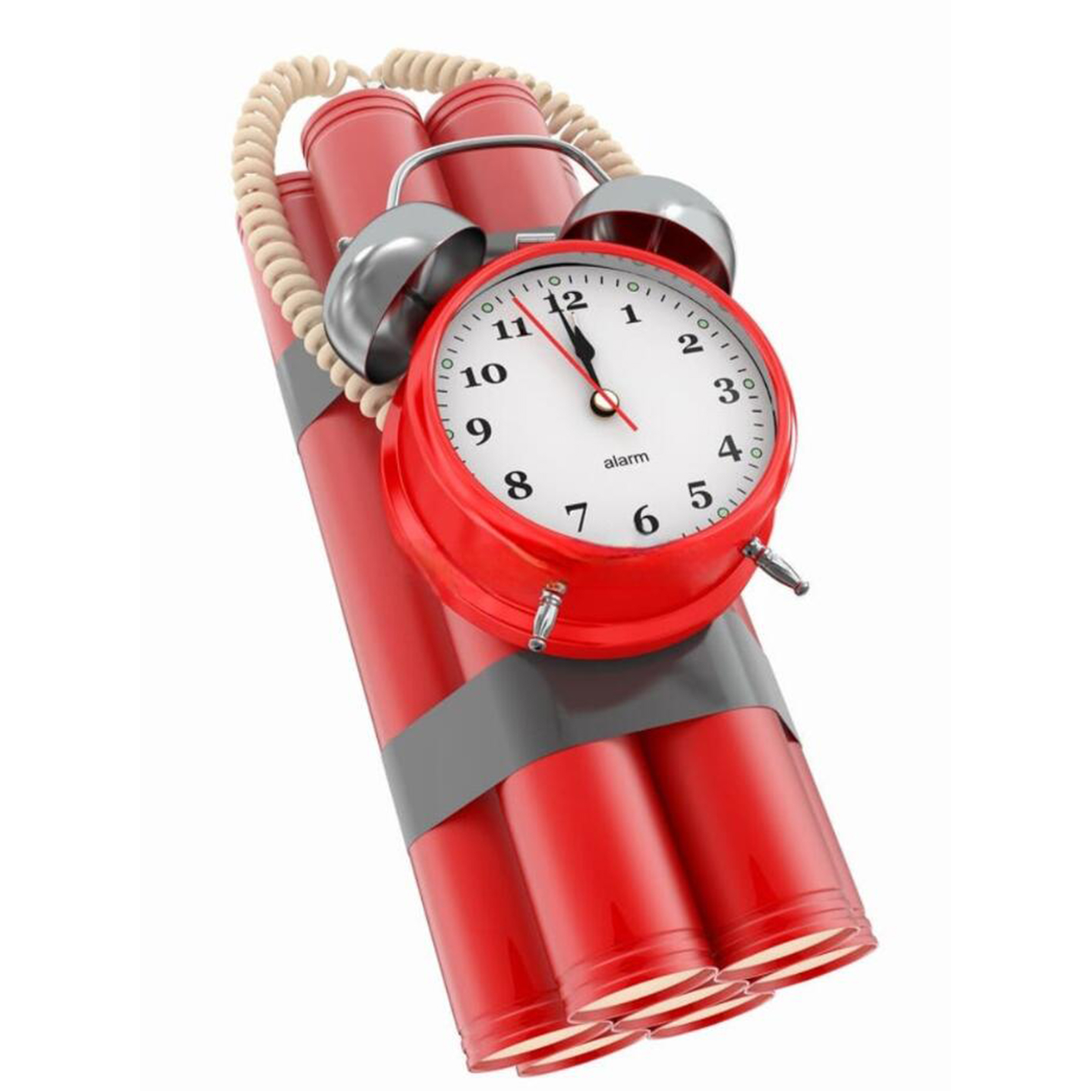mine: (676, 332, 706, 354)
